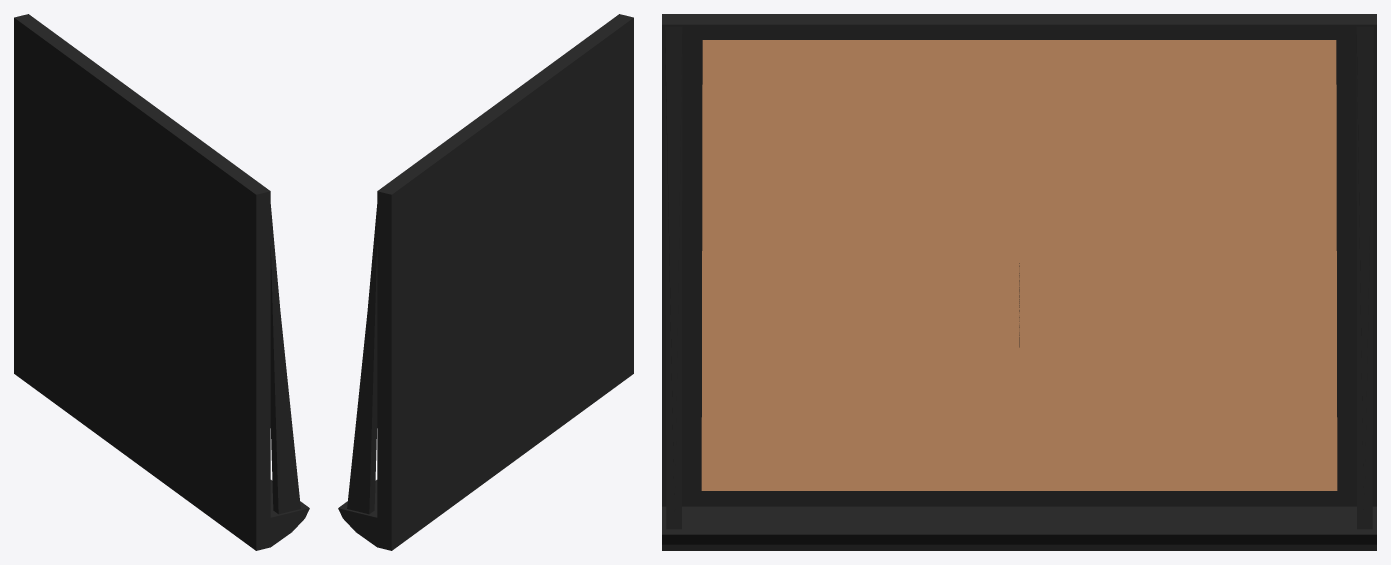
The model's file is weapon_holder_wall.fbx.
3 views of the same model, side by side, from view 1: azimuth 30°, elevation 25°; view 2: azimuth 150°, elevation 25°; view 3: azimuth 270°, elevation 25° (orthographic). The views are drawn at different scales.
Visible parts, largest first — view 1: Cube; view 2: Cube; view 3: Cube.
Boxes of the visible parts, x1,y1,x2,y2 form: Cube: (14,14,309,550); Cube: (338,14,633,550); Cube: (662,14,1376,550).
Size of the model in its own units: 36.89 by 233 by 288.
